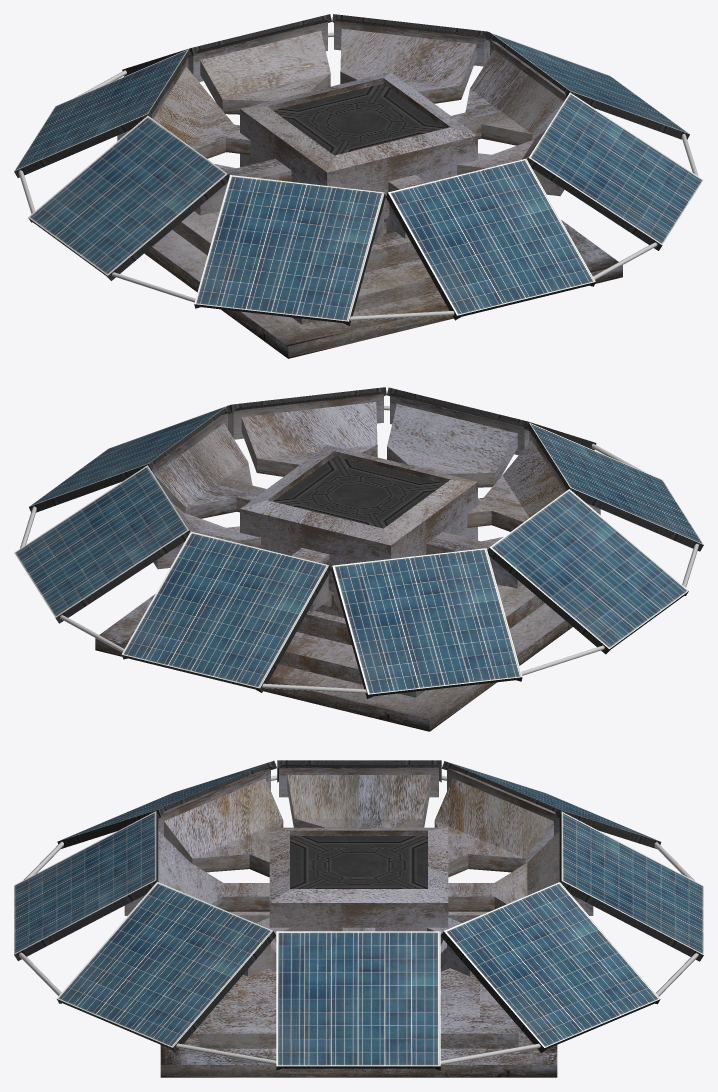
The model's file is solarStation.obj.
The picture shows the model from 3 angles, top to bottom: view 1: azimuth 30°, elevation 25°; view 2: azimuth 150°, elevation 25°; view 3: azimuth 270°, elevation 25°; orthographic projection. The views are drawn at different scales.
Parts seen in each view (by area): view 1: Box005, Box001, Plane018, Plane017, Plane019, Plane016, Plane020, Plane009, Plane015, Plane021, Plane022; view 2: Box005, Box001, Plane020, Plane021, Plane019, Plane022, Plane018, Plane009, Plane015, Plane017, Plane016; view 3: Box005, Box001, Plane015, Plane022, Plane016, Plane021, Plane017, Plane009, Plane020, Plane018, Plane019, Cylinder007 (+1 smaller).
Part boxes in pixels (x1,y1,x2,y2): Box005: (117,21,595,241); Box001: (144,72,622,358); Plane018: (194,175,385,325); Plane017: (386,158,595,320); Plane019: (28,115,229,280); Plane016: (527,92,703,250); Plane020: (14,49,192,177); Plane009: (273,83,444,155); Plane015: (486,32,689,139); Plane021: (122,14,331,76); Plane022: (332,14,489,38); Box005: (152,394,600,614); Box001: (95,445,572,731); Plane020: (331,548,522,698); Plane021: (121,531,330,692); Plane019: (487,489,688,654); Plane022: (14,465,190,623); Plane018: (525,422,703,551); Plane009: (273,456,444,528); Plane015: (29,405,231,512); Plane017: (387,387,596,450); Plane016: (228,387,386,414); Box005: (124,767,593,976); Box001: (160,827,557,1077); Plane015: (276,931,440,1070); Plane022: (441,882,660,1053); Plane016: (56,881,275,1052); Plane021: (557,811,703,961); Plane017: (14,811,160,960); Plane009: (290,836,427,888); Plane020: (441,761,661,848); Plane018: (57,760,276,848); Plane019: (277,760,441,782); Cylinder007: (440,1043,540,1065).
Size of the model in its own units: 210 by 49.67 by 210.
